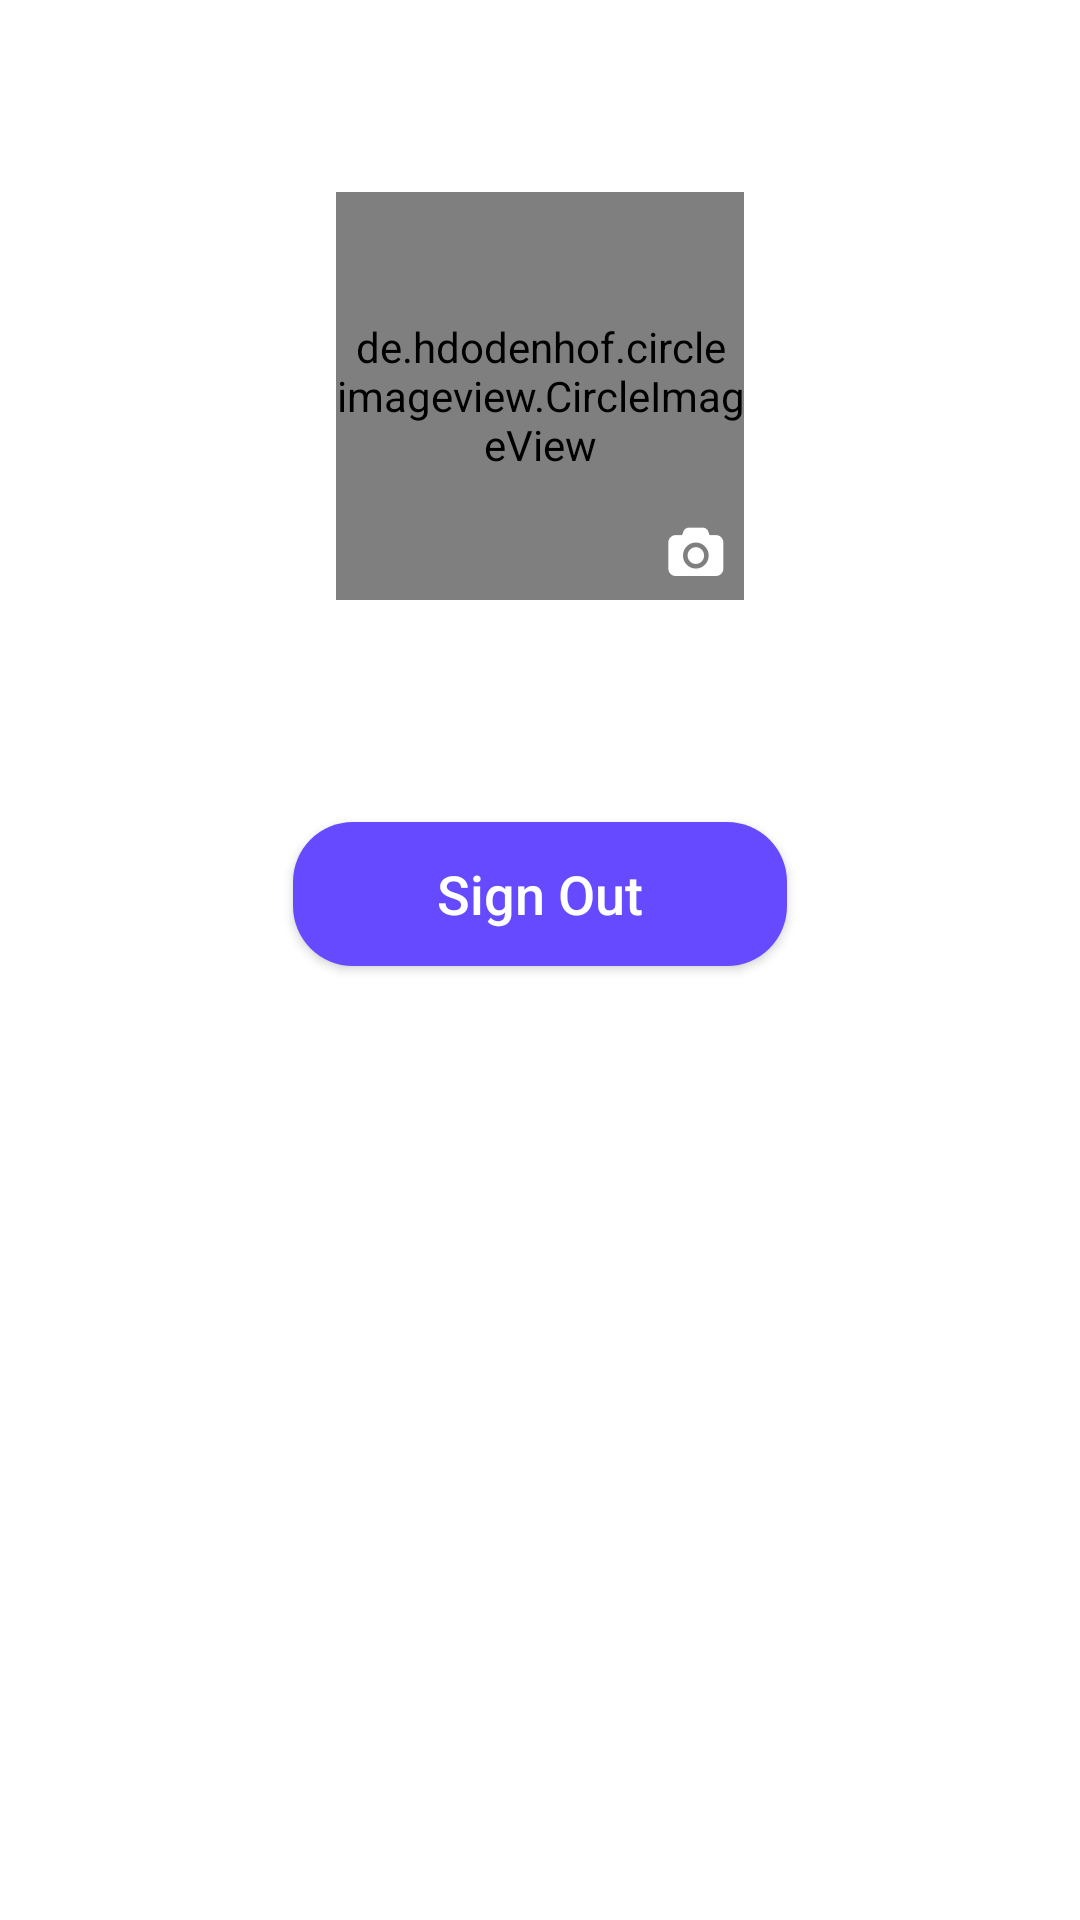

Icons on this 1080x1920 Android screen, each with its box as (x1,y1,x2,y2):
upload profile picture: (668,527,724,576)
